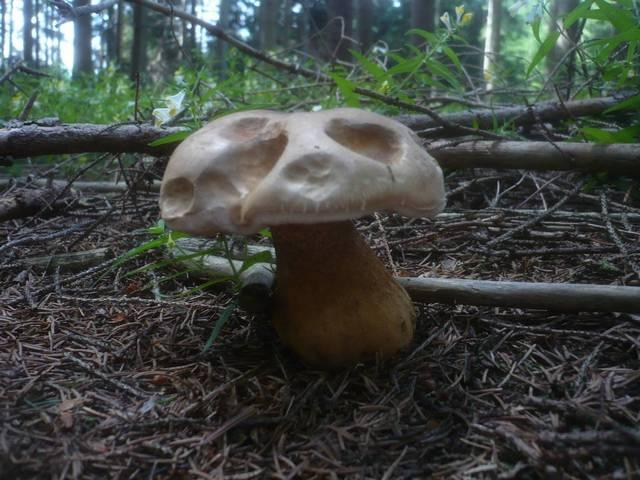Non-edible Mushroom: (157, 105, 447, 370)
